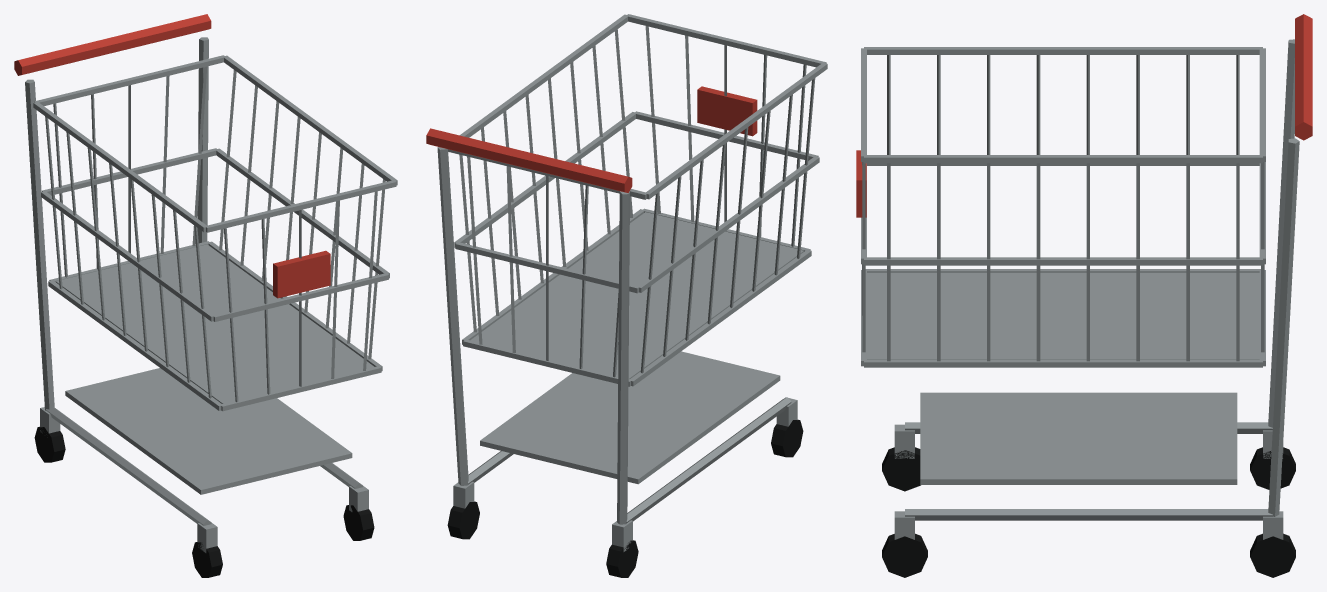
File: xe_mua_sam.glb
3 views of the same model, side by side, from view 1: azimuth 30°, elevation 25°; view 2: azimuth 150°, elevation 25°; view 3: azimuth 270°, elevation 25° (orthographic). The views are drawn at different scales.
Visible parts, largest first — view 1: xe_mua_sam; view 2: xe_mua_sam; view 3: xe_mua_sam.
Boxes of the visible parts, x1,y1,x2,y2 form: xe_mua_sam: [14, 14, 397, 577]; xe_mua_sam: [426, 14, 827, 577]; xe_mua_sam: [856, 14, 1312, 577].
Bounding box in the file's own units: 0.512 × 1 × 0.8923.
